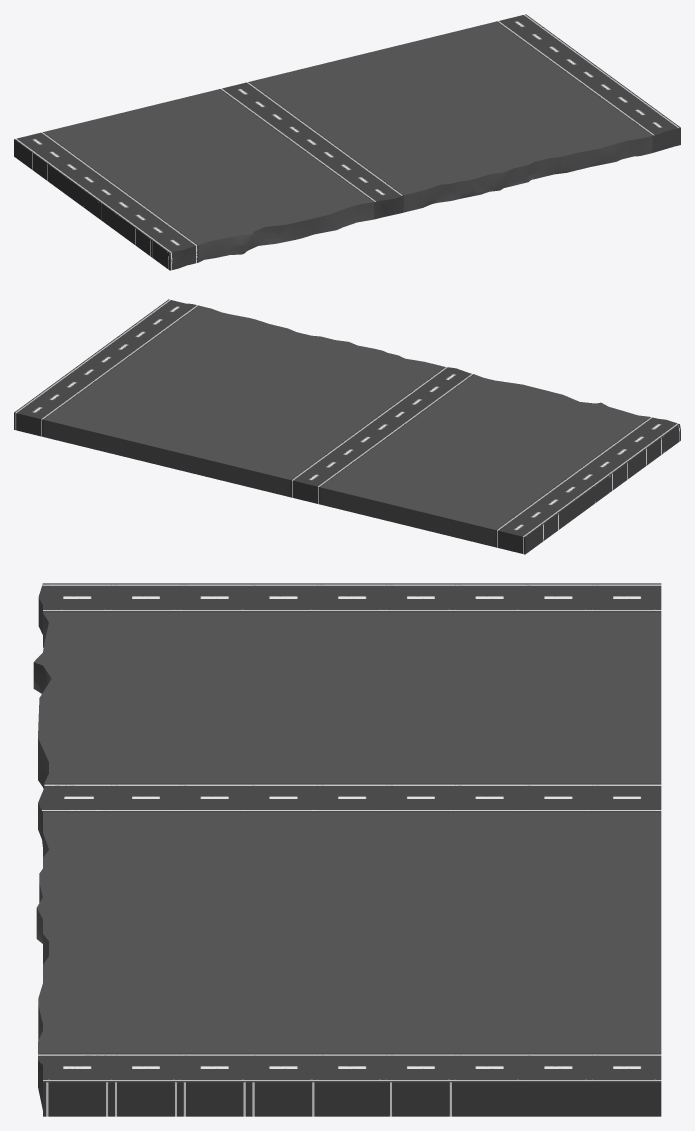
File: ground_brake.fbx
3 views of the same model, one above another, from view 1: azimuth 30°, elevation 25°; view 2: azimuth 150°, elevation 25°; view 3: azimuth 270°, elevation 25° (orthographic). The views are drawn at different scales.
Parts seen in each view (by area): view 1: polySurface546; view 2: polySurface546; view 3: polySurface546.
Part boxes in pixels (<box>): polySurface546: <box>14,14,680,270</box>; polySurface546: <box>14,299,680,554</box>; polySurface546: <box>33,583,661,1116</box>.
Size of the model in its own units: 155 by 5 by 82.23.
